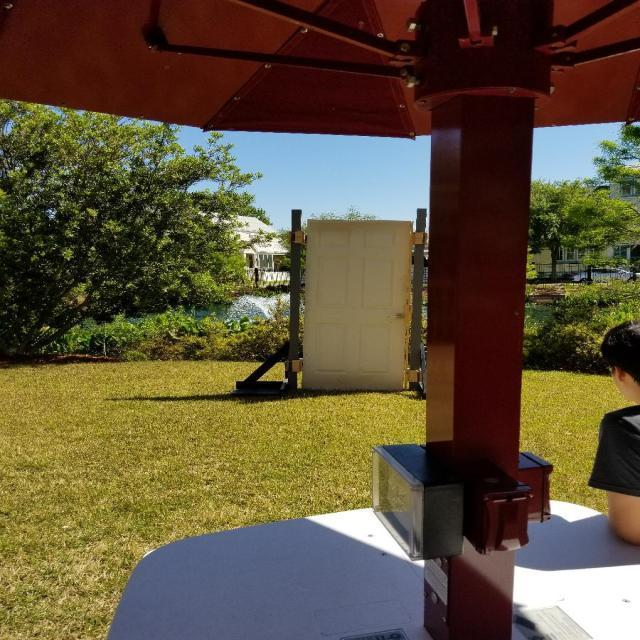door: (301, 216, 414, 391), (391, 312, 408, 322)
